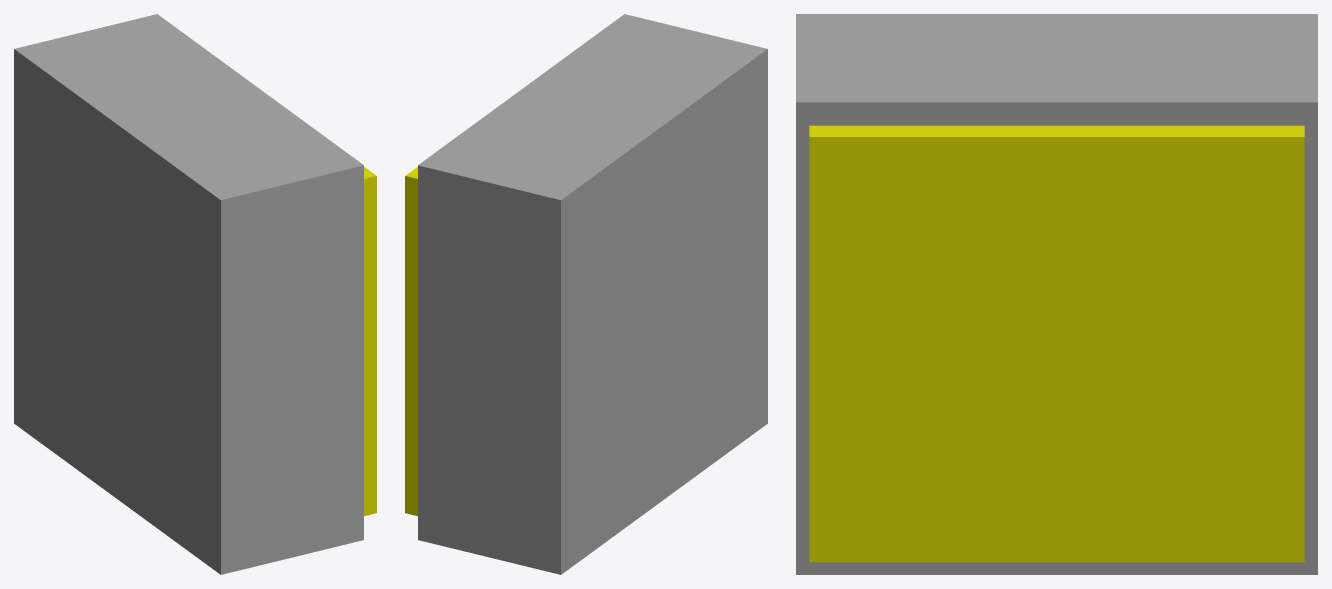
The model's file is SM_Cabinet_Wall_Base.fbx.
3 renders of one model, left to right at view 1: azimuth 30°, elevation 25°; view 2: azimuth 150°, elevation 25°; view 3: azimuth 270°, elevation 25°, orthographic. The views are drawn at different scales.
Visible parts, largest first — view 1: SM_Cabinet_Wall_Base; view 2: SM_Cabinet_Wall_Base; view 3: SM_Cabinet_Wall_Base.
Boxes of the visible parts, left/top/right/bottom form: SM_Cabinet_Wall_Base: left=14, top=14, right=376, bottom=574; SM_Cabinet_Wall_Base: left=405, top=14, right=767, bottom=574; SM_Cabinet_Wall_Base: left=796, top=14, right=1317, bottom=574.
Size of the model in its own units: 45 by 100 by 100.
